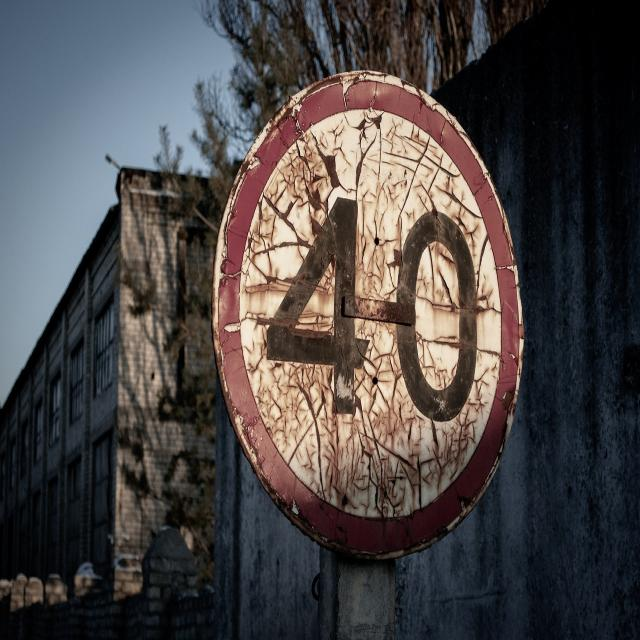speed limit 40: (204, 66, 532, 568)
